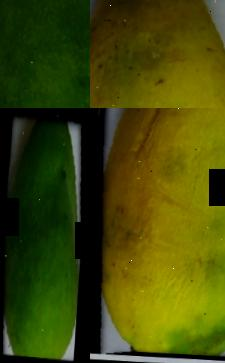Ripe: (90, 108, 225, 359), (90, 0, 225, 108)
Unripe: (0, 108, 90, 363), (0, 0, 90, 108)
